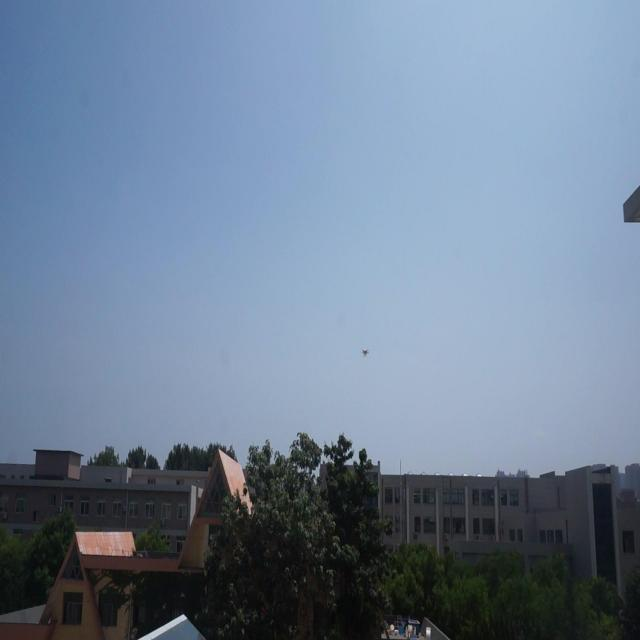UAV: (360, 348, 370, 358)
